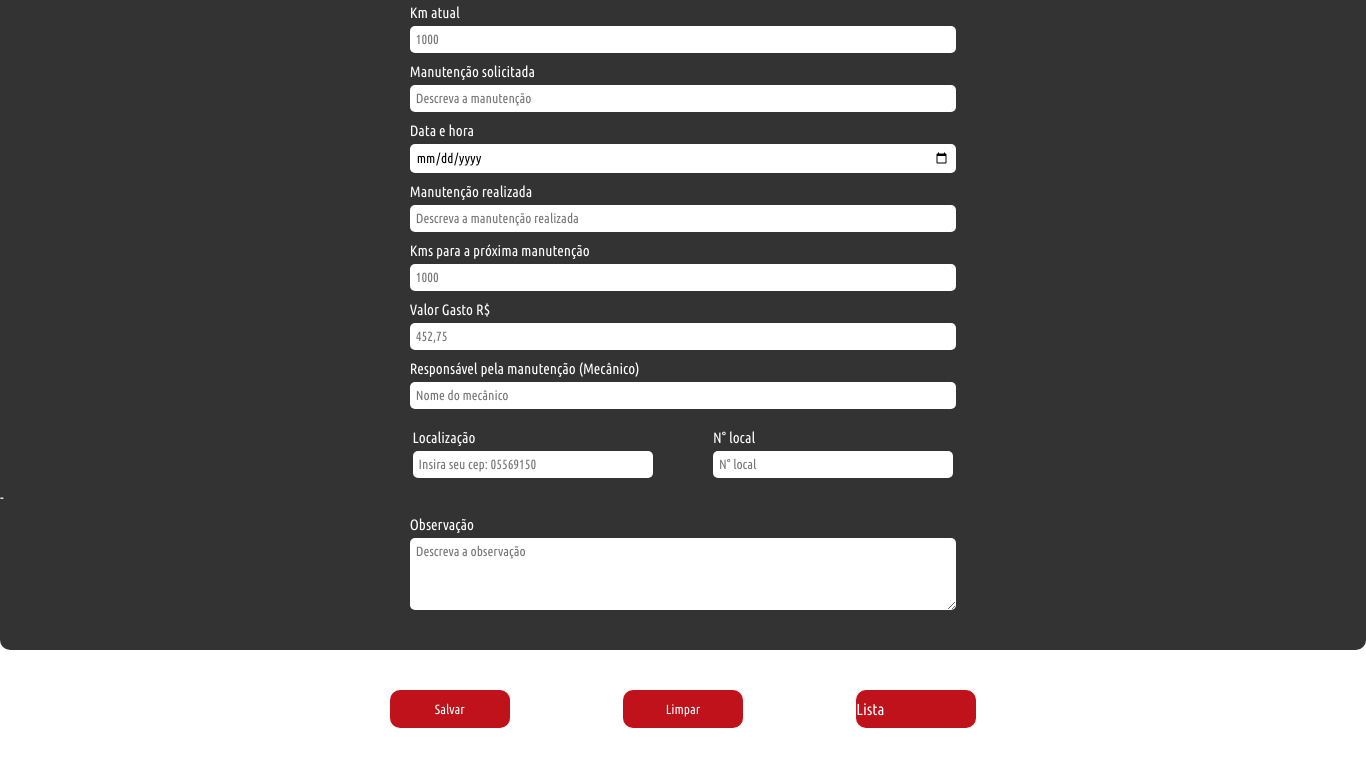
Input values › should show error when do not type any value
The image size is (1366, 758).
(page scrolled)
Click the button "Salvar" at (450, 709), box 390,690 -> 510,728
(page scrolled)
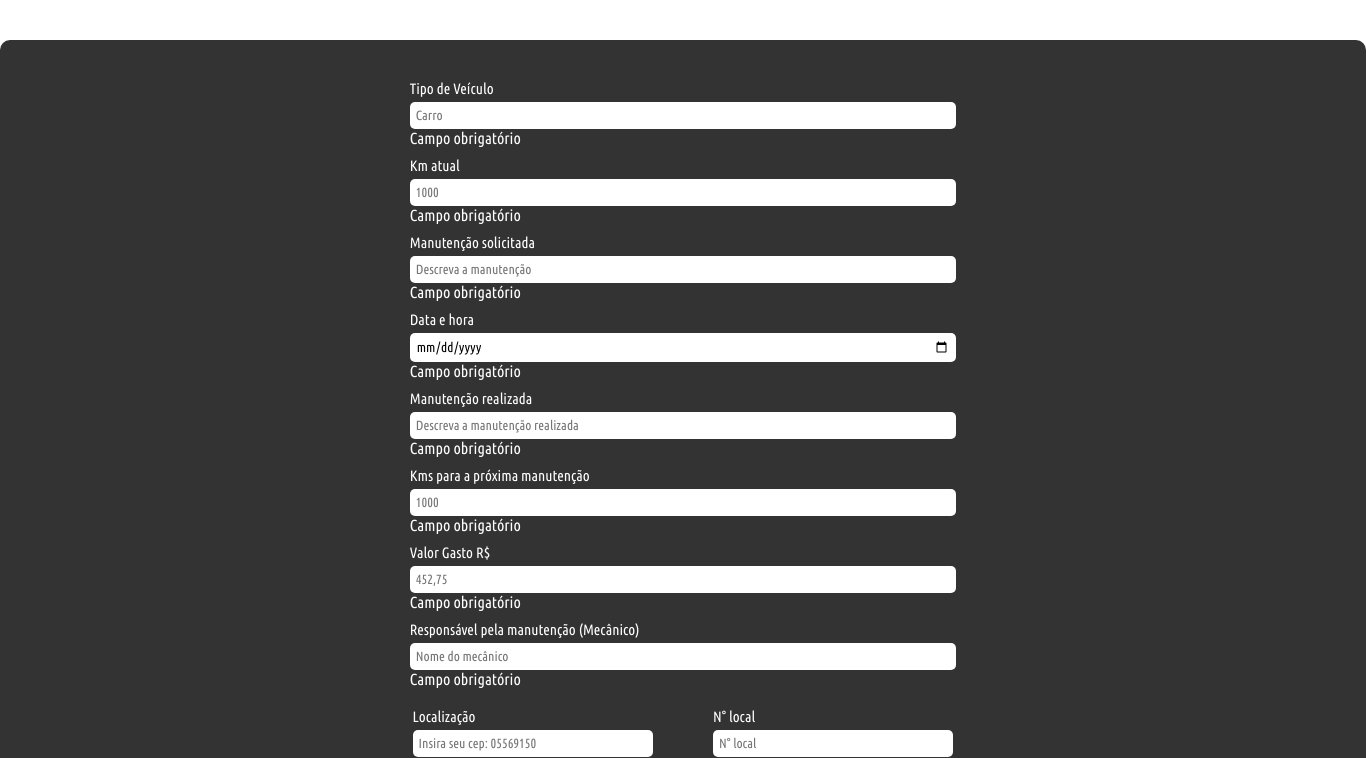
Check: the text "Campo obrigatório" is shown 11 times
